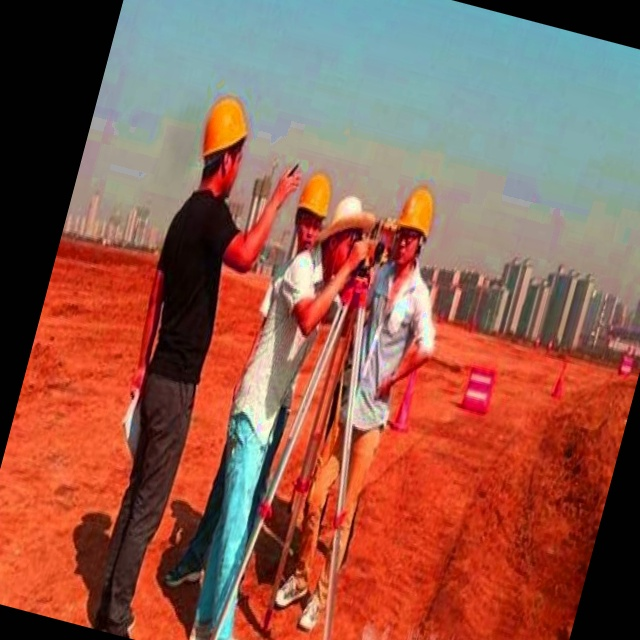Con_Casco: (191, 91, 259, 199), (387, 180, 441, 266)
